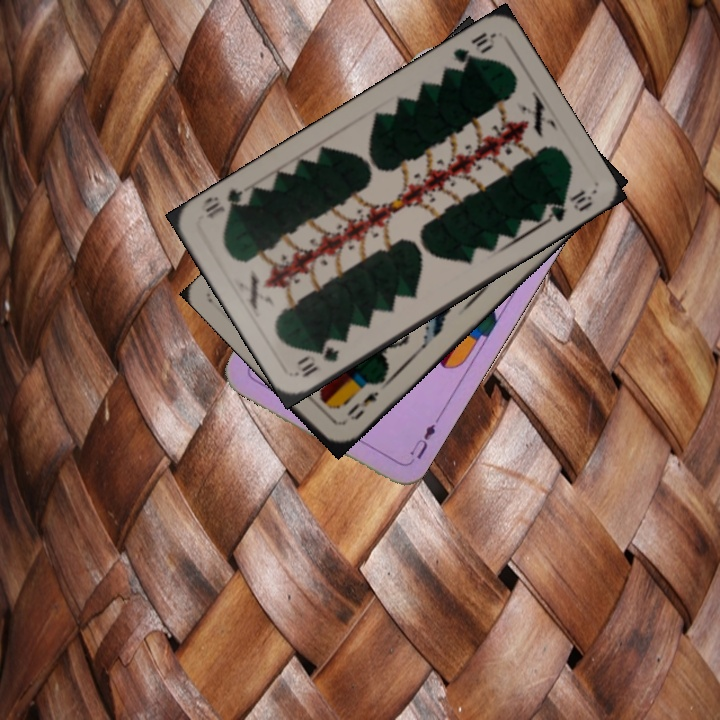EO: (342, 387, 381, 423)
EU: (403, 419, 439, 467)
G10: (445, 28, 498, 74), (295, 341, 343, 381)
